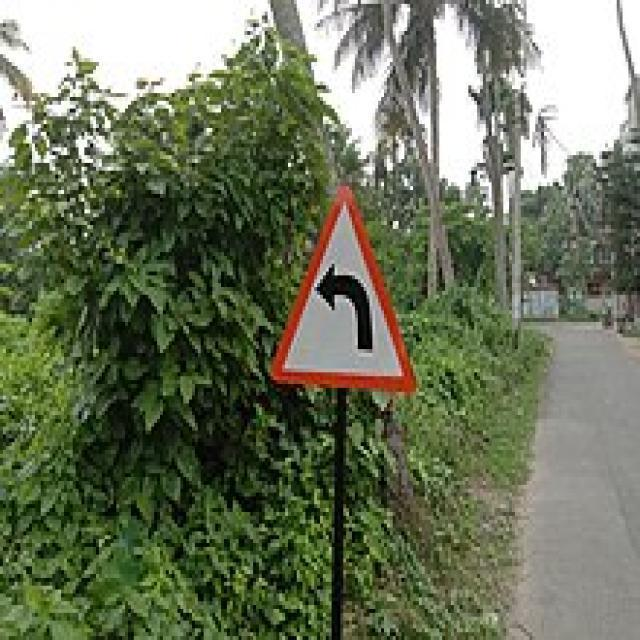left hand curve: (258, 178, 433, 392)
